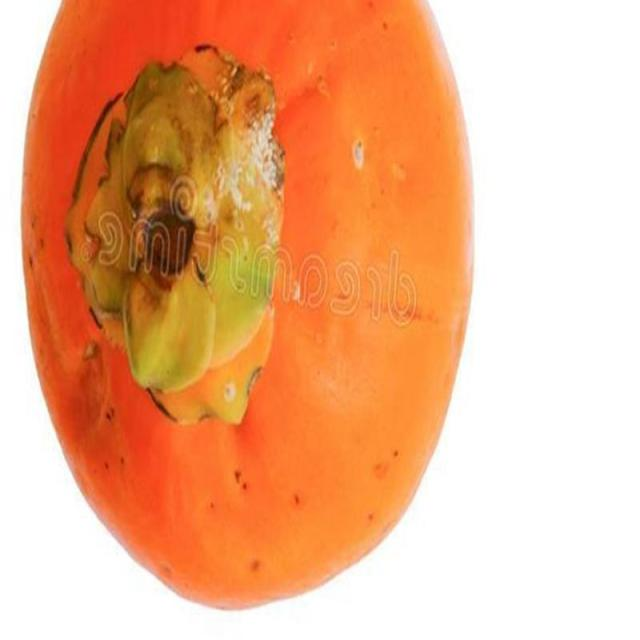good: (20, 0, 478, 615)
